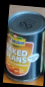beans: (6, 11, 45, 83)
